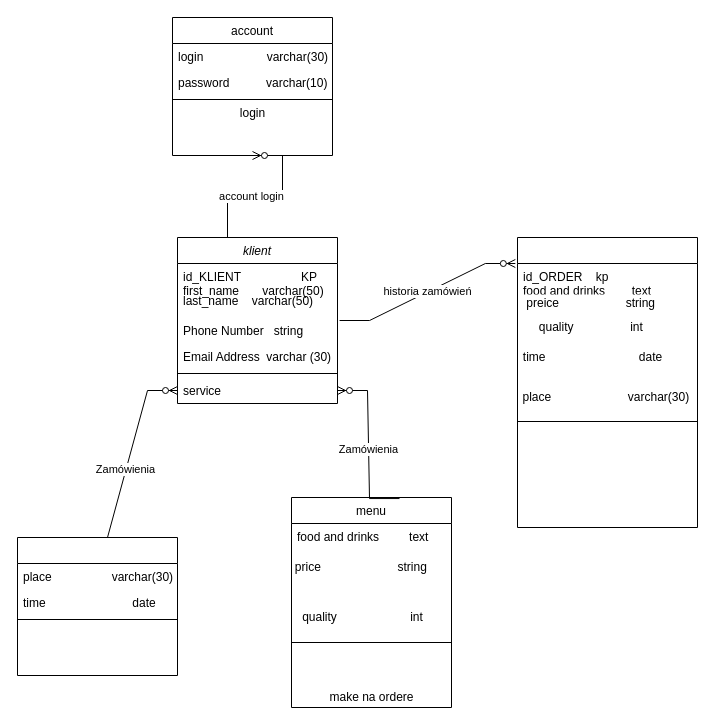
Image size: 715x725. Some labels were removed from this diagram. The box of each missing label's shape, as (x1, y1, x2, y2) in pixels:
ordrer: (516, 236, 698, 528)
reservation: (16, 536, 178, 676)
